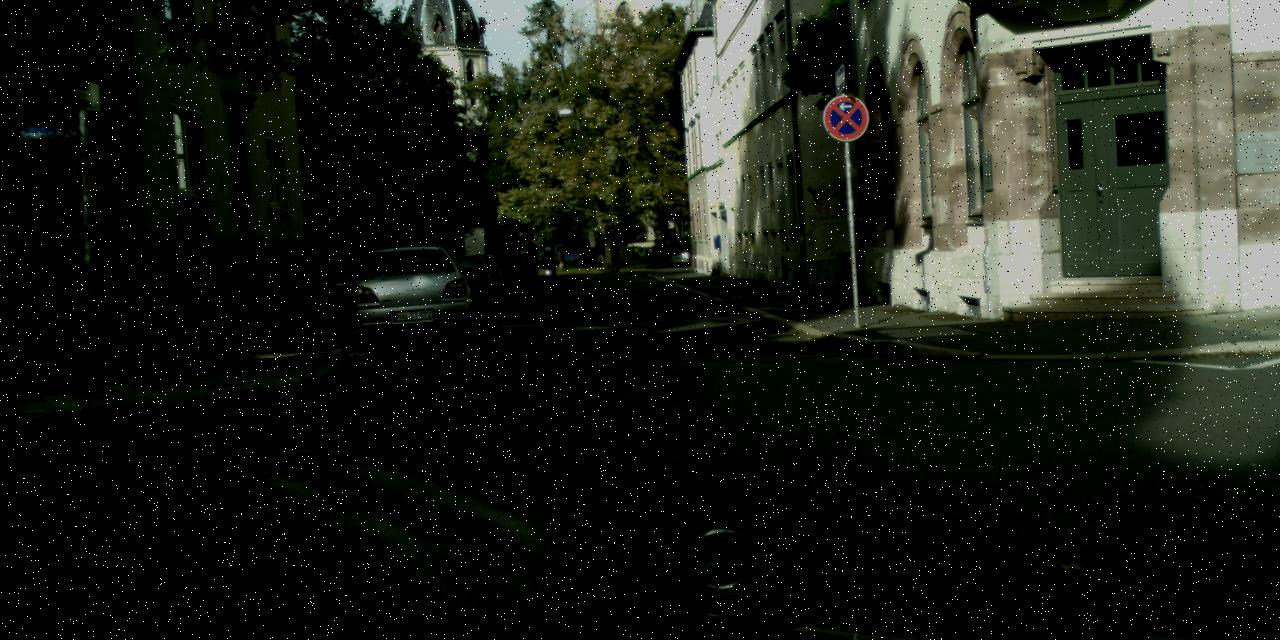ped: (499, 236, 521, 291), (539, 246, 557, 290), (523, 241, 539, 280)
